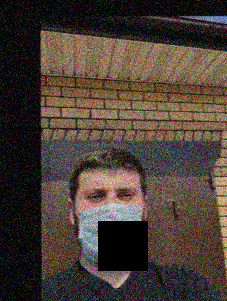with_mask: (74, 176, 144, 267)
